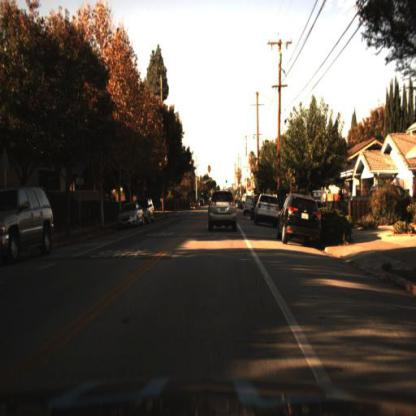car: (1, 186, 57, 264), (275, 192, 323, 249), (206, 190, 238, 238), (251, 190, 282, 229), (117, 200, 145, 232), (253, 193, 281, 222), (118, 201, 146, 228), (138, 192, 157, 229), (243, 193, 255, 217)
